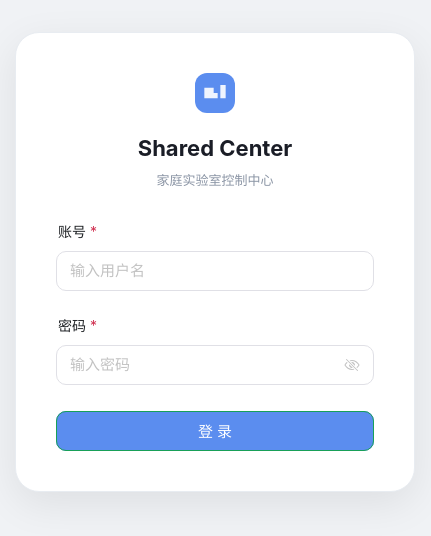
Scenario: Login.vue › 登录失败 → 显示后端错误信息
The image size is (431, 536).
Type "admin" into the field with placeholder "输入用户名".
click(205, 271); type("admin")  # box [70,251,340,291]
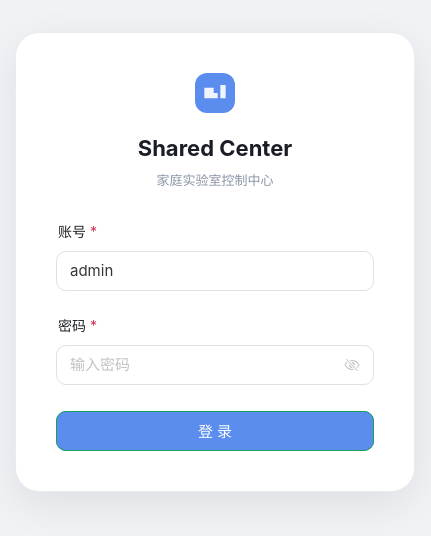
Type "wrong" into the password field with placeholder "输入密码".
click(197, 365); type("wrong")  # box [70,345,324,385]
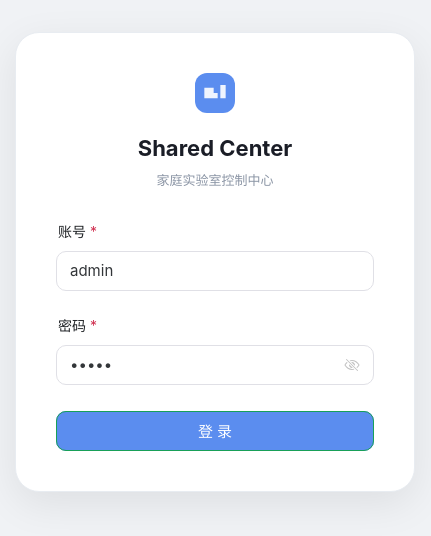
Click the button "登 录".
click(215, 431)  # box [56,411,374,451]
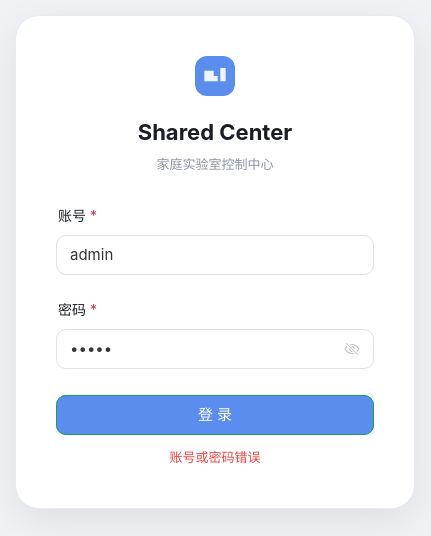
Result: the text "账号或密码错误" is shown at [170,449,260,465]
